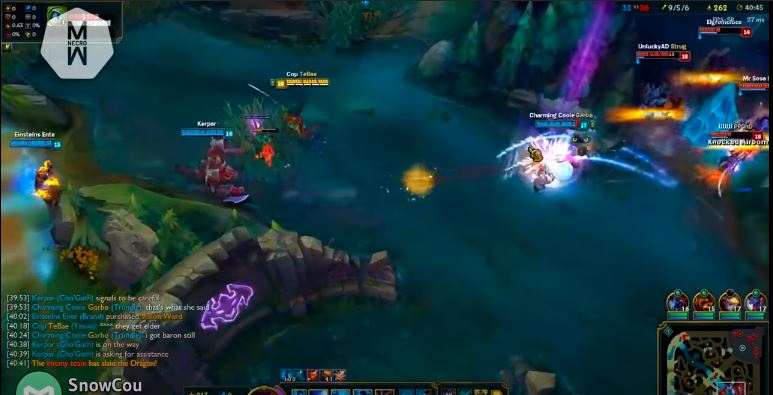bar: (707, 128, 766, 146), (271, 76, 331, 90), (7, 137, 62, 149), (181, 125, 235, 137), (636, 50, 694, 61), (697, 27, 754, 37), (534, 120, 591, 129), (737, 79, 773, 93)
